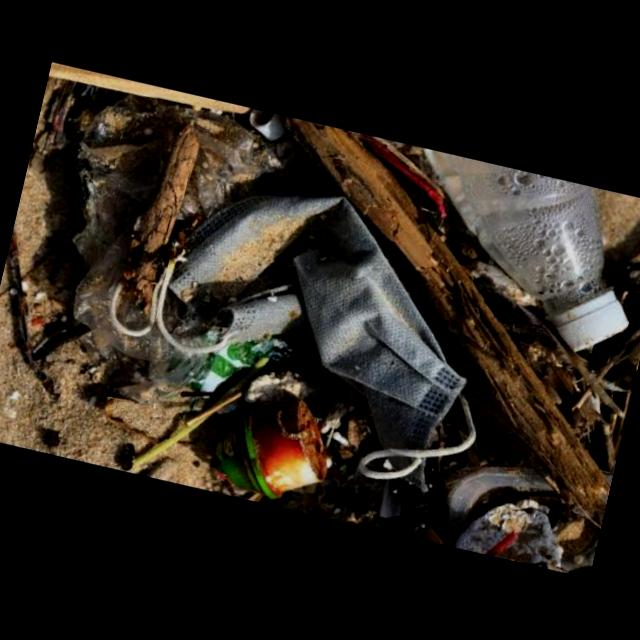chai_nhua_pet: (420, 146, 629, 351)
khau_trang: (155, 191, 474, 455)
